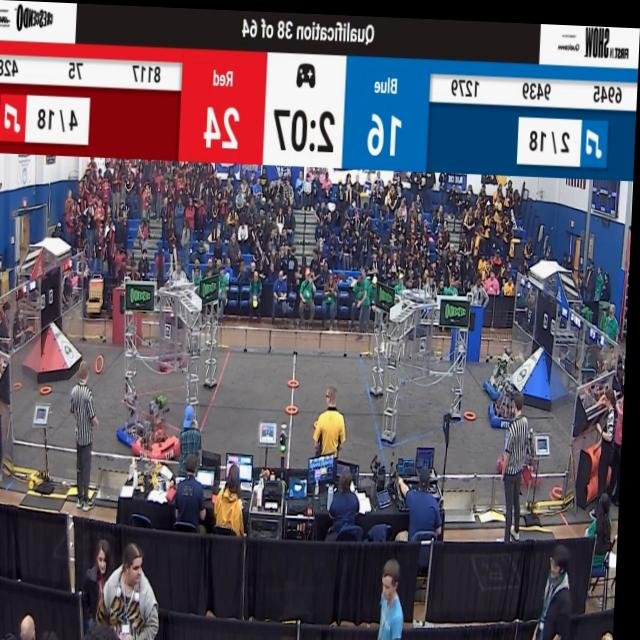Robot: (135, 382, 185, 466), (484, 339, 522, 403), (119, 392, 156, 446), (160, 315, 190, 377), (492, 379, 527, 426)
